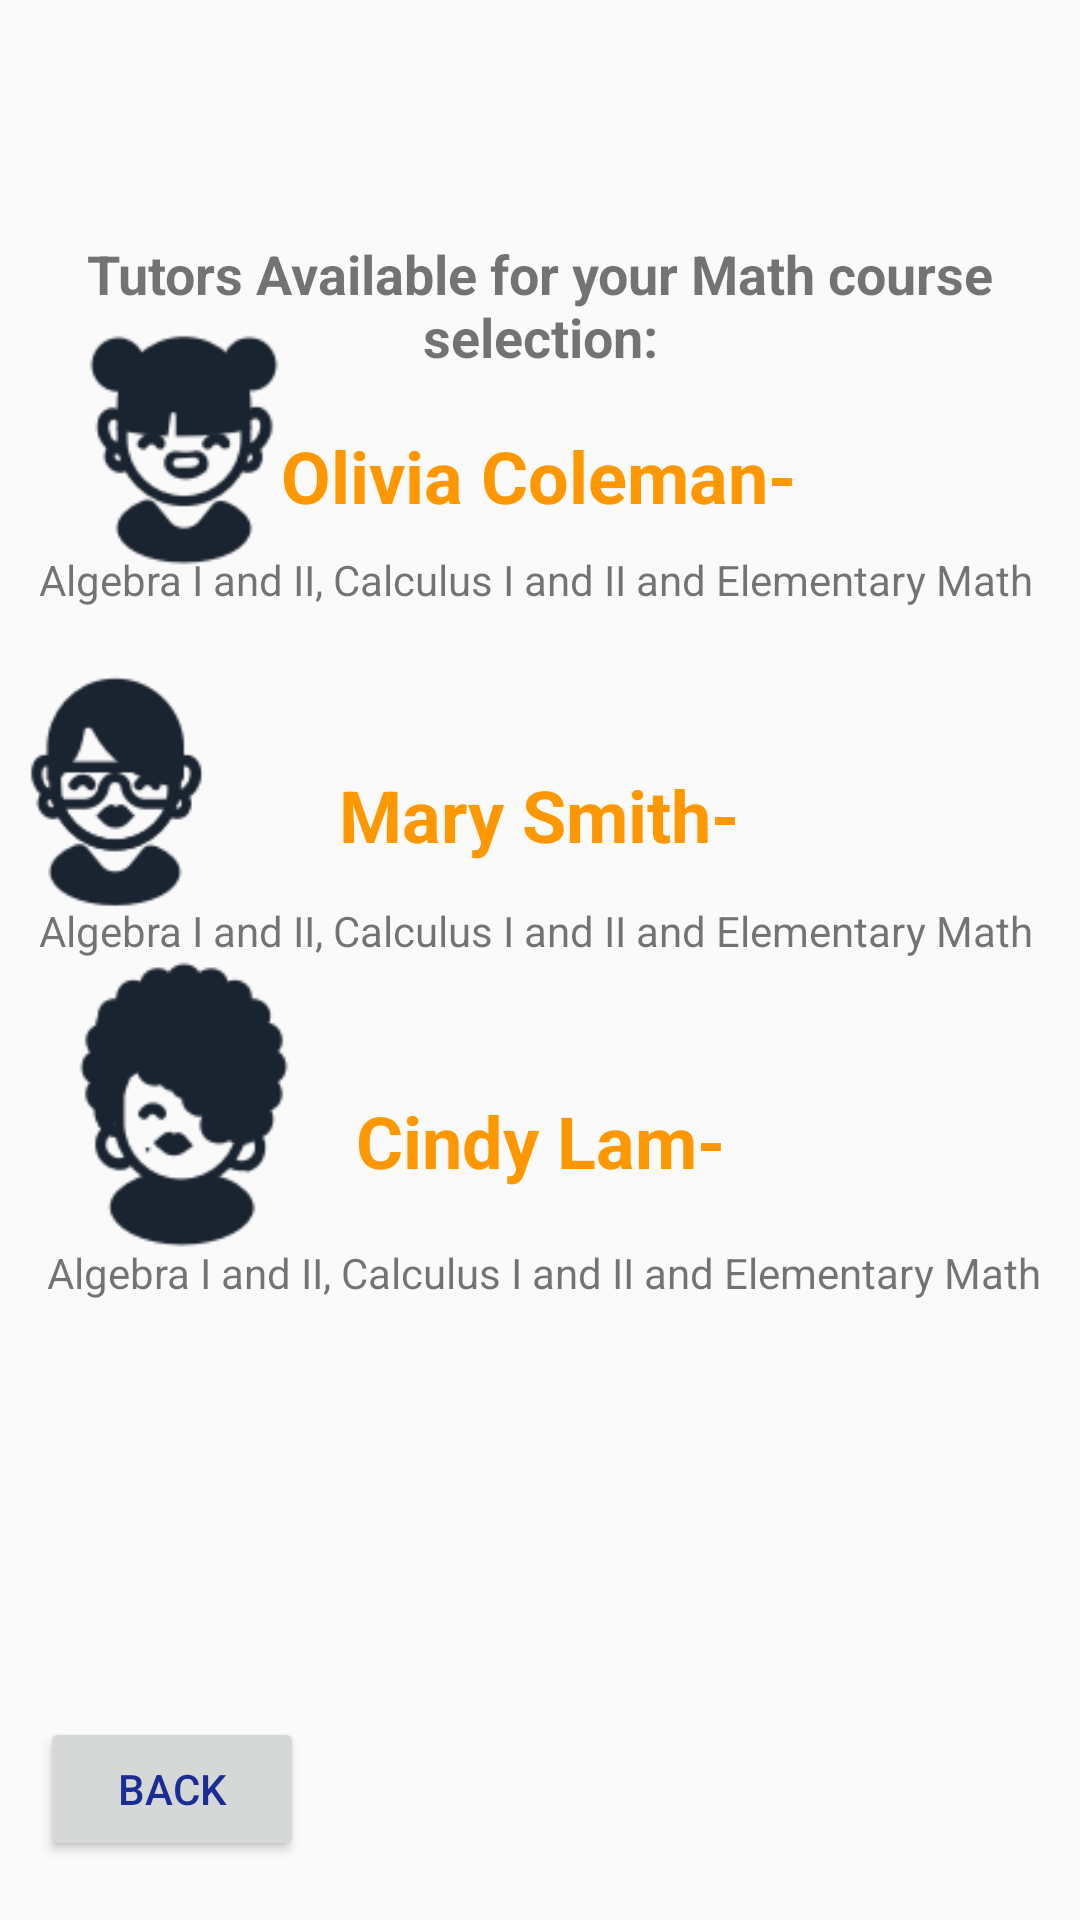

Icons on this 1080px x 1920px Android screen, each with its box as (x1,y1,x2,y2):
femalebuns: (90,263,358,565)
femalehoops: (80,942,322,1247)
